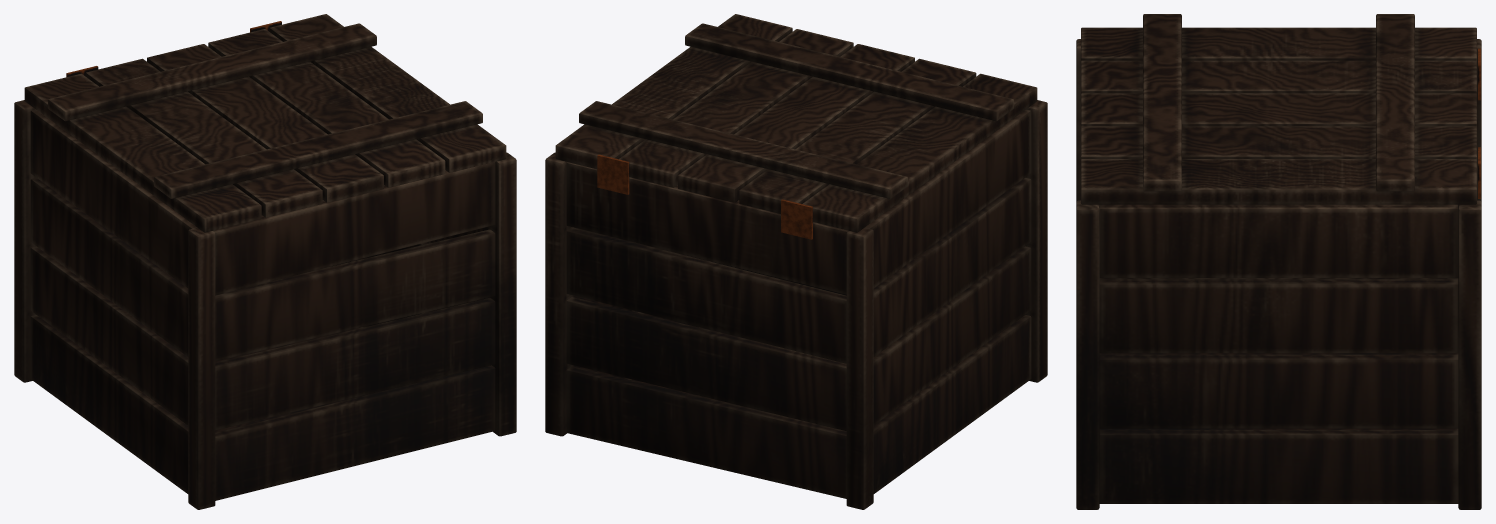
The model's file is attic_crate_a.glb.
3 renders of one model, left to right at view 1: azimuth 30°, elevation 25°; view 2: azimuth 150°, elevation 25°; view 3: azimuth 270°, elevation 25°, orthographic. The views are drawn at different scales.
Parts seen in each view (by area): view 1: Body, Lid; view 2: Body, Lid, LidHinges; view 3: Body, Lid.
Boxes of the visible parts, x1,y1,x2,y2 form: Body: (14, 100, 516, 509); Lid: (24, 14, 506, 232); Body: (545, 100, 1047, 509); Lid: (555, 14, 1037, 232); LidHinges: (597, 154, 812, 239); Body: (1076, 39, 1481, 509); Lid: (1081, 14, 1476, 204).
Size of the model in its own units: 0.522 by 0.466 by 0.522.
Materials: 3 (3 with a texture image).
